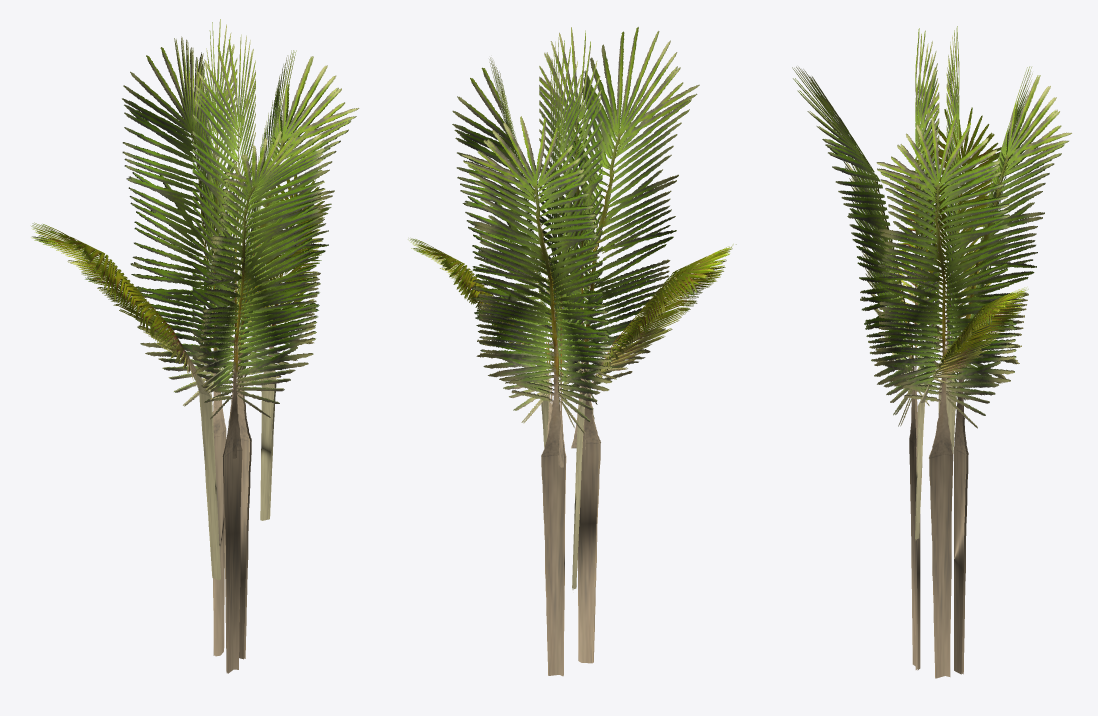
Rendered from palm_nipa_2.glb.
3 renders of one model, left to right at view 1: azimuth 30°, elevation 25°; view 2: azimuth 150°, elevation 25°; view 3: azimuth 270°, elevation 25°, orthographic.
Parts seen in each view (by area): view 1: palm_nipa_2; view 2: palm_nipa_2; view 3: palm_nipa_2.
Boxes of the visible parts, bbox=[...] form: palm_nipa_2: bbox=[31, 19, 359, 673]; palm_nipa_2: bbox=[408, 27, 736, 676]; palm_nipa_2: bbox=[792, 26, 1071, 678].
Bounding box in the file's own units: 10.04 × 19.31 × 7.91.
1 material, 1 textured.
